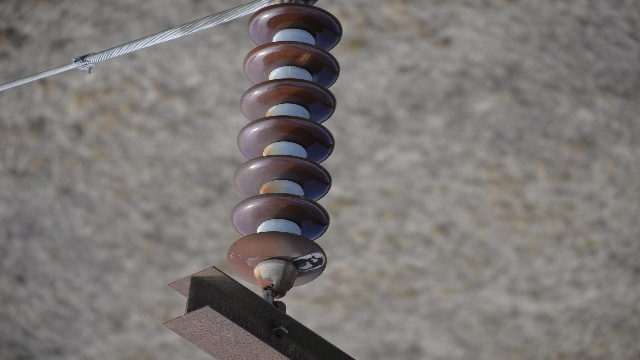insulator_unspecified: (224, 4, 344, 290)
pollution_flashover_local: (295, 249, 327, 275), (295, 51, 313, 68)
